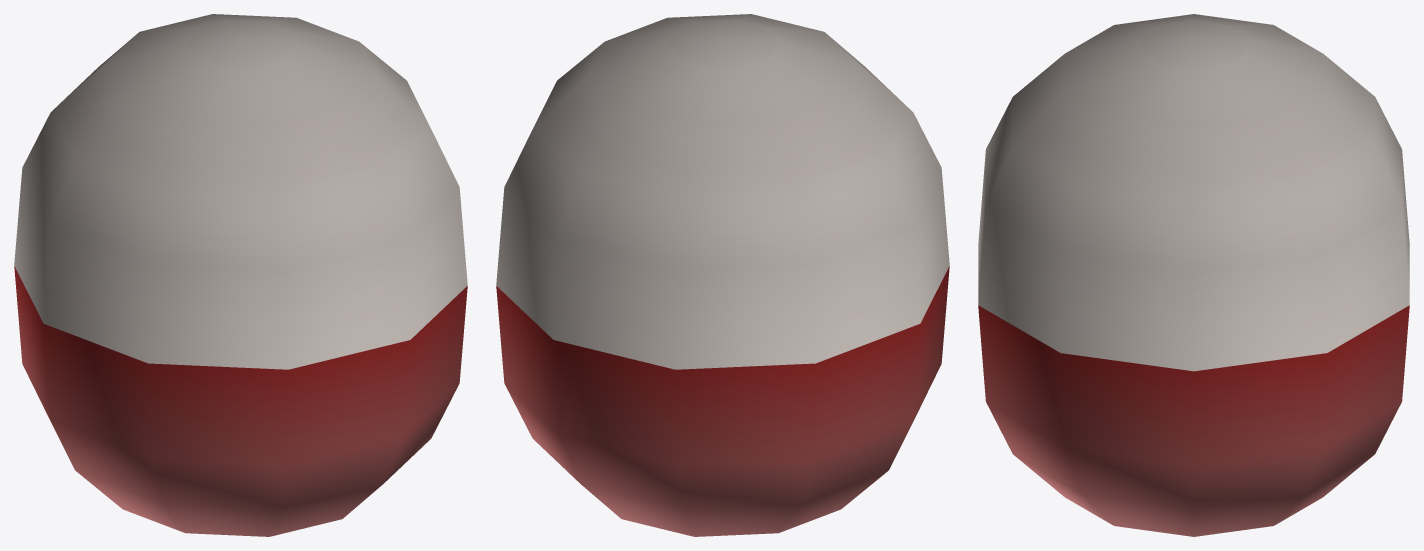
File: lowhongjn_niudan_Geo.fbx
3 views of the same model, side by side, from view 1: azimuth 30°, elevation 25°; view 2: azimuth 150°, elevation 25°; view 3: azimuth 270°, elevation 25° (orthographic).
Parts seen in each view (by area): view 1: lowhongjn_niudan_Geo; view 2: lowhongjn_niudan_Geo; view 3: lowhongjn_niudan_Geo.
Part boxes in pixels (left/top/right/bottom): lowhongjn_niudan_Geo: left=14, top=14, right=467, bottom=536; lowhongjn_niudan_Geo: left=496, top=14, right=949, bottom=536; lowhongjn_niudan_Geo: left=978, top=14, right=1409, bottom=536.
Size of the model in its own units: 15.25 by 17.55 by 14.51.
Materials: 1 (1 with a texture image).
